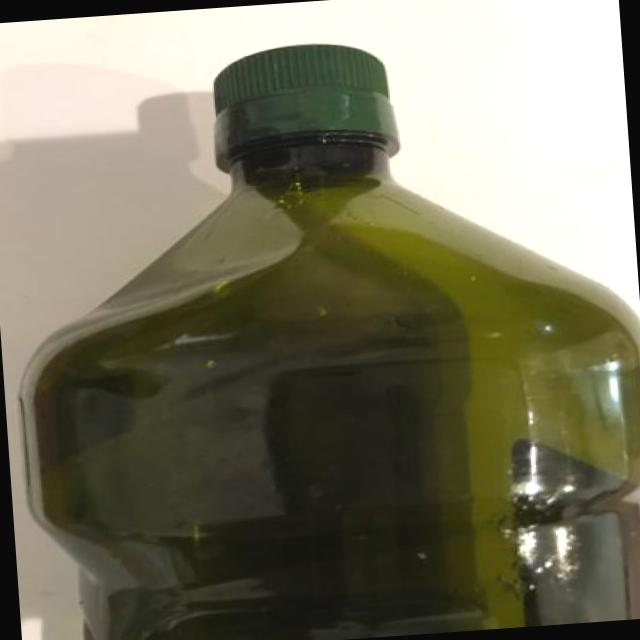bottle: (22, 45, 639, 639)
plastic: (22, 138, 639, 639)
